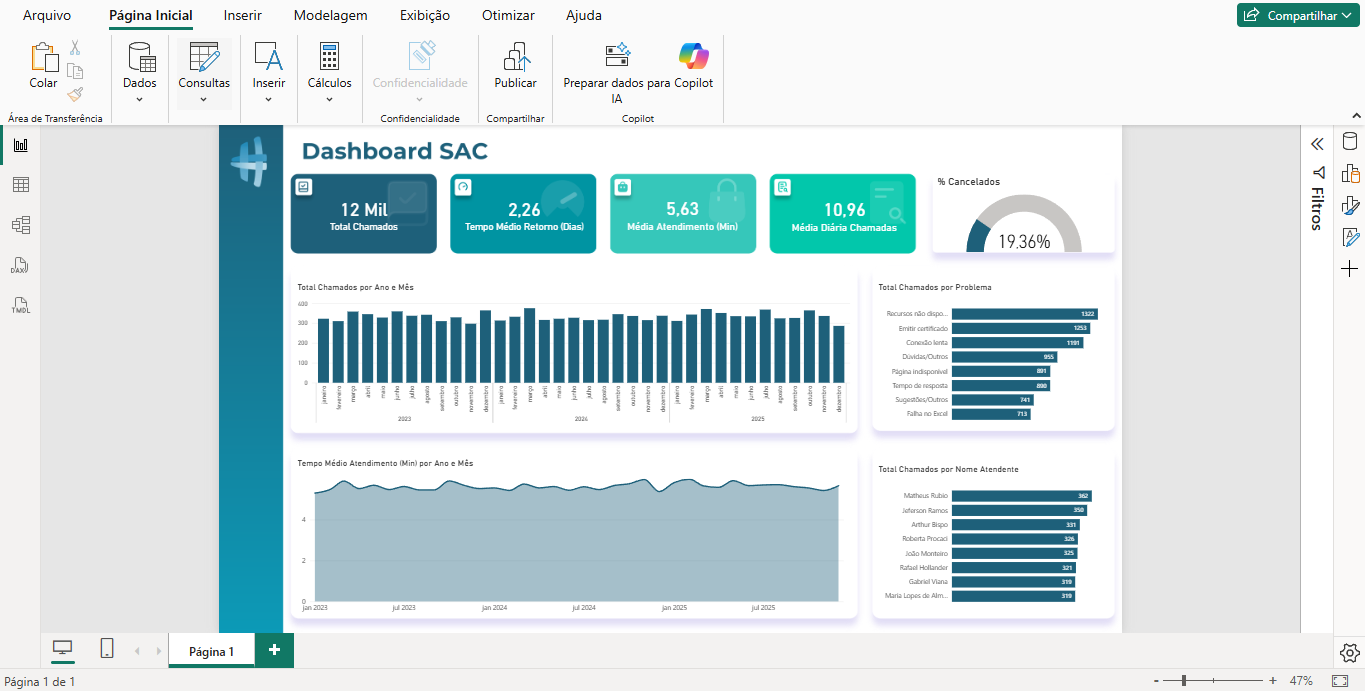

What the dashboard file says about the page in this screenshot:
{"tool":"powerbi","page":{"name":"Página 1","canvas":[1920,1080],"ordinal":0},"visuals":[{"type":"cardVisual","fields":{"Data":["fOcorrencias.Total Chamados"]},"box":[152,98.5,314.6,190.5],"z":0},{"type":"cardVisual","fields":{"Data":["fOcorrencias.Tempo Médio Retorno (Dias)"]},"box":[492.3,94.2,312.5,199.1],"z":1000},{"type":"cardVisual","fields":{"Data":["fOcorrencias.Tempo Médio Atendimento (Min)"]},"box":[822.8,89.3,325.3,206.2],"z":2000},{"type":"cardVisual","fields":{"Data":["fOcorrencias.Média Diária Chamadas"]},"box":[1166.6,92,325.3,206.2],"z":3000},{"type":"gauge","fields":{"Y":["fOcorrencias.% Cancelados"]},"box":[1511.2,94.2,400.3,192.6],"z":4000},{"type":"columnChart","fields":{"Category":["fOcorrencias.Data Chamado.Variation.Hierarquia de datas.Ano","fOcorrencias.Data Chamado.Variation.Hierarquia de datas.Mês"],"Y":["fOcorrencias.Total Chamados"]},"box":[152,318.9,1207.2,336.1],"z":5000},{"type":"areaChart","fields":{"Category":["fOcorrencias.Data Chamado.Variation.Hierarquia de datas.Ano","fOcorrencias.Data Chamado.Variation.Hierarquia de datas.Mês"],"Y":["fOcorrencias.Tempo Médio Atendimento (Min)"]},"box":[152,693.5,1207.2,363.9],"z":5001},{"type":"barChart","fields":{"Category":["dProblema.Problema"],"Y":["fOcorrencias.Total Chamados"]},"box":[1386.7,318.3,516.7,336.7],"z":5002},{"type":"barChart","fields":{"Category":["dSuporte.Nome Atendente"],"Y":["fOcorrencias.Total Chamados"]},"box":[1387,706.4,516.7,336.7],"z":5003}]}

Visuals, with their boxes on the page's 1920x1080 design canvas (x1, y1, x2, y2). These are canvas units, not pixel positions in the 1365x691 screenshot, which may show the page scaled, cropped or inside an application window:
cardVisual - fOcorrencias.Total Chamados: 152,98,467,289
cardVisual - fOcorrencias.Tempo Médio Retorno (Dias): 492,94,805,293
cardVisual - fOcorrencias.Tempo Médio Atendimento (Min): 823,89,1148,296
cardVisual - fOcorrencias.Média Diária Chamadas: 1167,92,1492,298
gauge - fOcorrencias.% Cancelados: 1511,94,1912,287
columnChart - fOcorrencias.Data Chamado.Variation.Hierarquia de datas.Ano x fOcorrencias.Data Chamado.Variation.Hierarquia de datas.Mês: 152,319,1359,655
areaChart - fOcorrencias.Data Chamado.Variation.Hierarquia de datas.Ano x fOcorrencias.Data Chamado.Variation.Hierarquia de datas.Mês: 152,694,1359,1057
barChart - dProblema.Problema x fOcorrencias.Total Chamados: 1387,318,1903,655
barChart - dSuporte.Nome Atendente x fOcorrencias.Total Chamados: 1387,706,1904,1043
